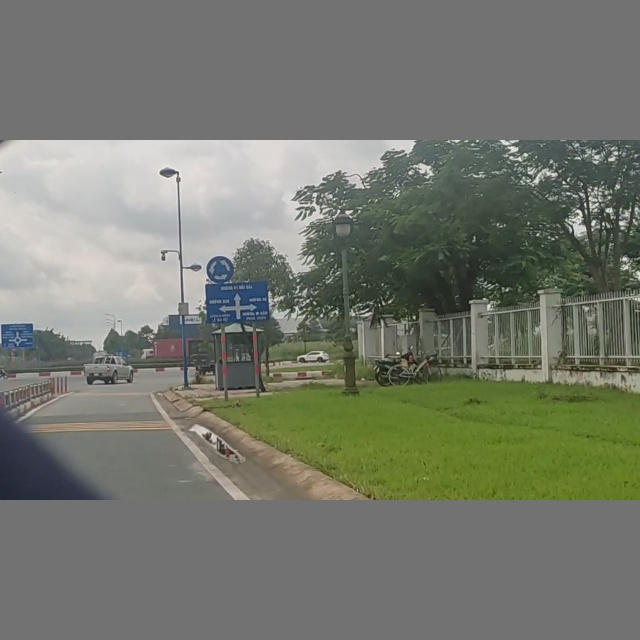R.303: (205, 255, 234, 284)
